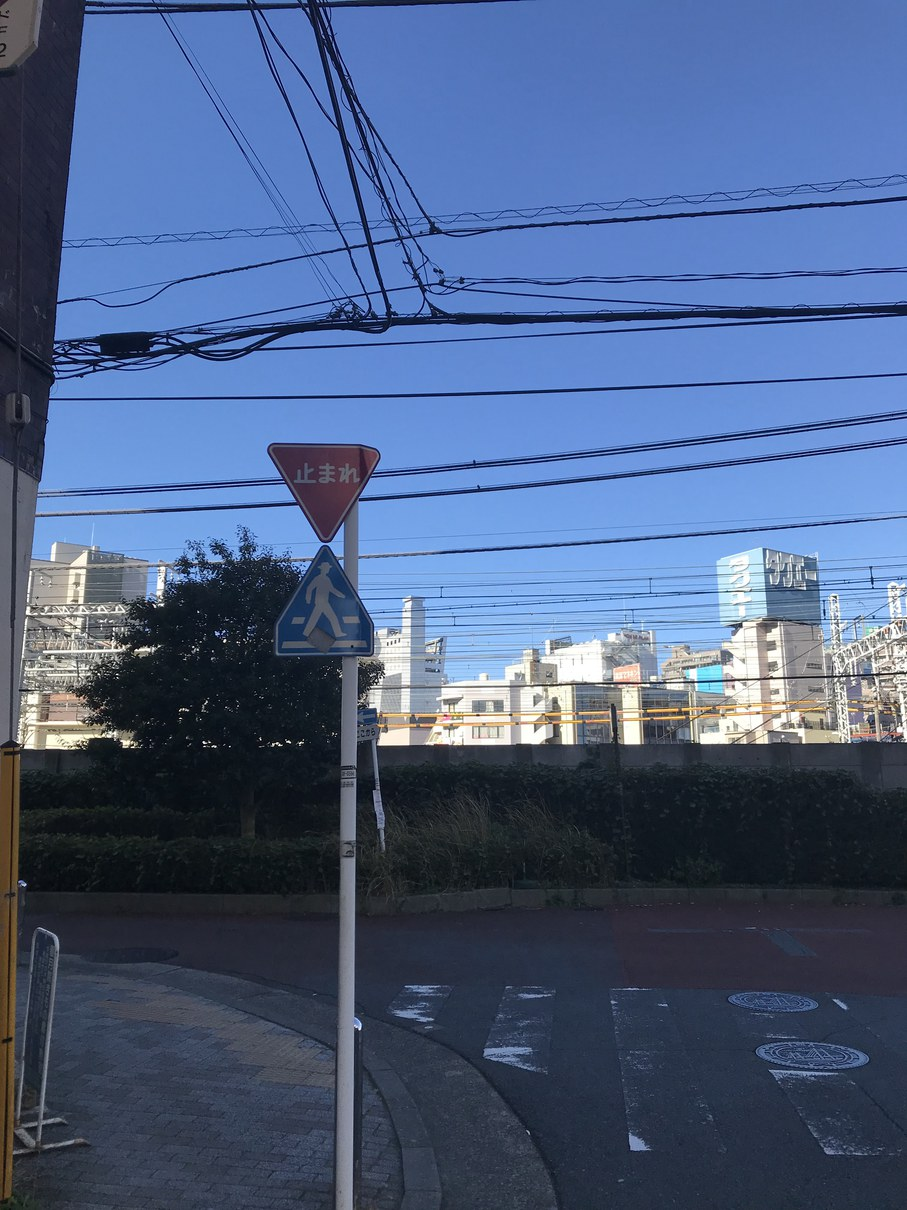stop_sign: (265, 440, 382, 543)
